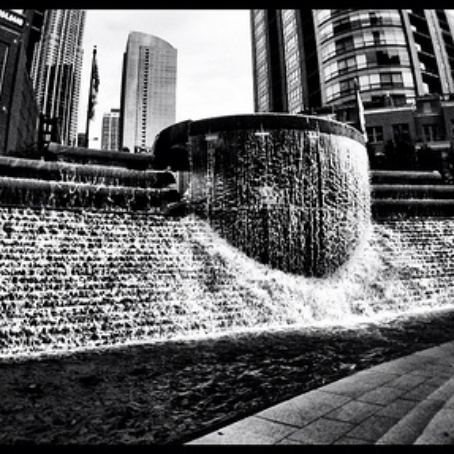building: (258, 1, 454, 132), (1, 1, 73, 135), (122, 26, 179, 156)
flag: (83, 53, 108, 123)
fountain: (1, 126, 454, 415)
